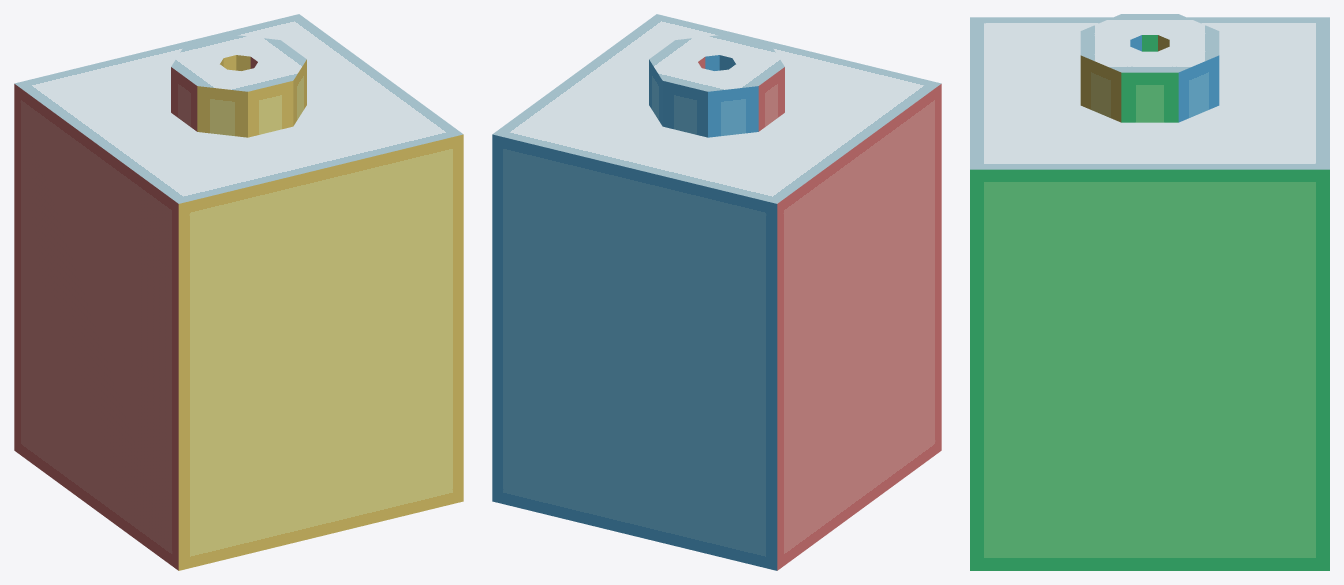
The model's file is anim_test.gltf.
The picture shows the model from 3 angles, left to right: view 1: azimuth 30°, elevation 25°; view 2: azimuth 150°, elevation 25°; view 3: azimuth 270°, elevation 25°; orthographic projection. The views are drawn at different scales.
Parts seen in each view (by area): view 1: cuboid, tube; view 2: cuboid, tube; view 3: cuboid, tube.
Part boxes in pixels (x1,y1,x2,y2): cuboid: [14, 14, 463, 570]; tube: [171, 34, 306, 137]; cuboid: [492, 14, 941, 570]; tube: [649, 34, 784, 137]; cuboid: [970, 17, 1329, 570]; tube: [1080, 14, 1219, 122].
Bounding box in the file's own units: 0.8125 × 1.12 × 0.8125.
Materials: 1 (1 with a texture image).
